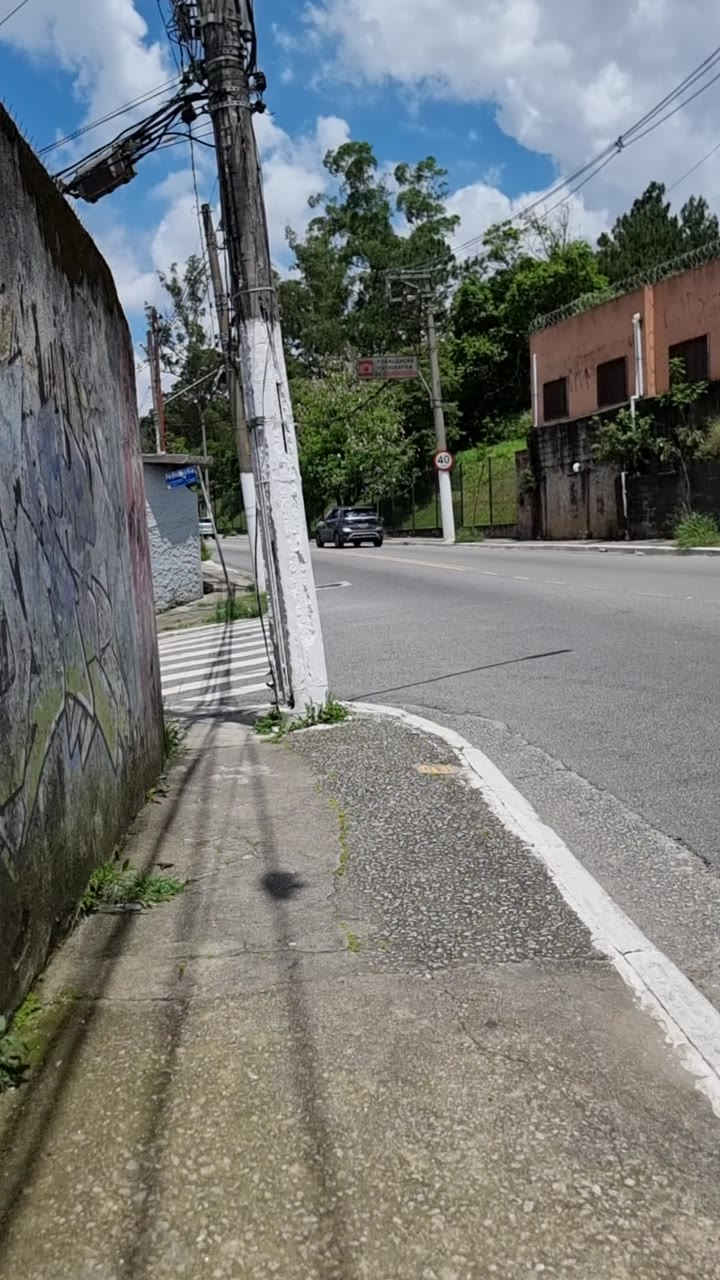obstaculo: (216, 0, 331, 717)
